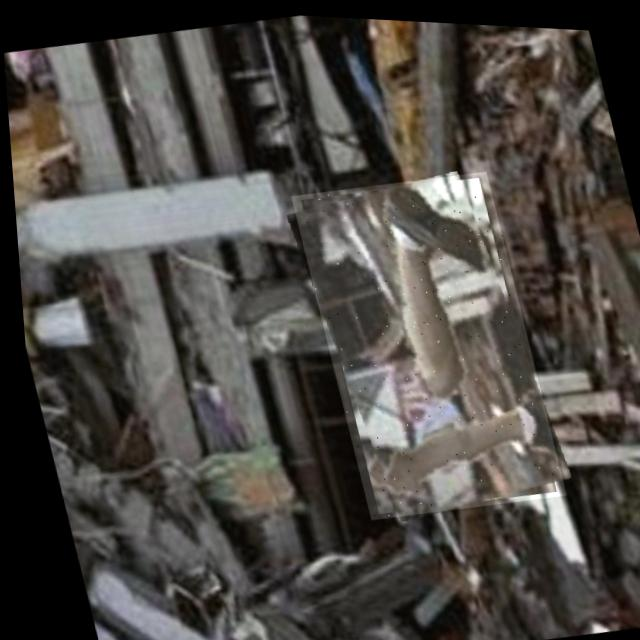Person in Rubble: (285, 157, 561, 523)
